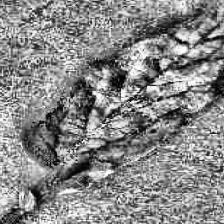leaf mold: (24, 0, 224, 189)
